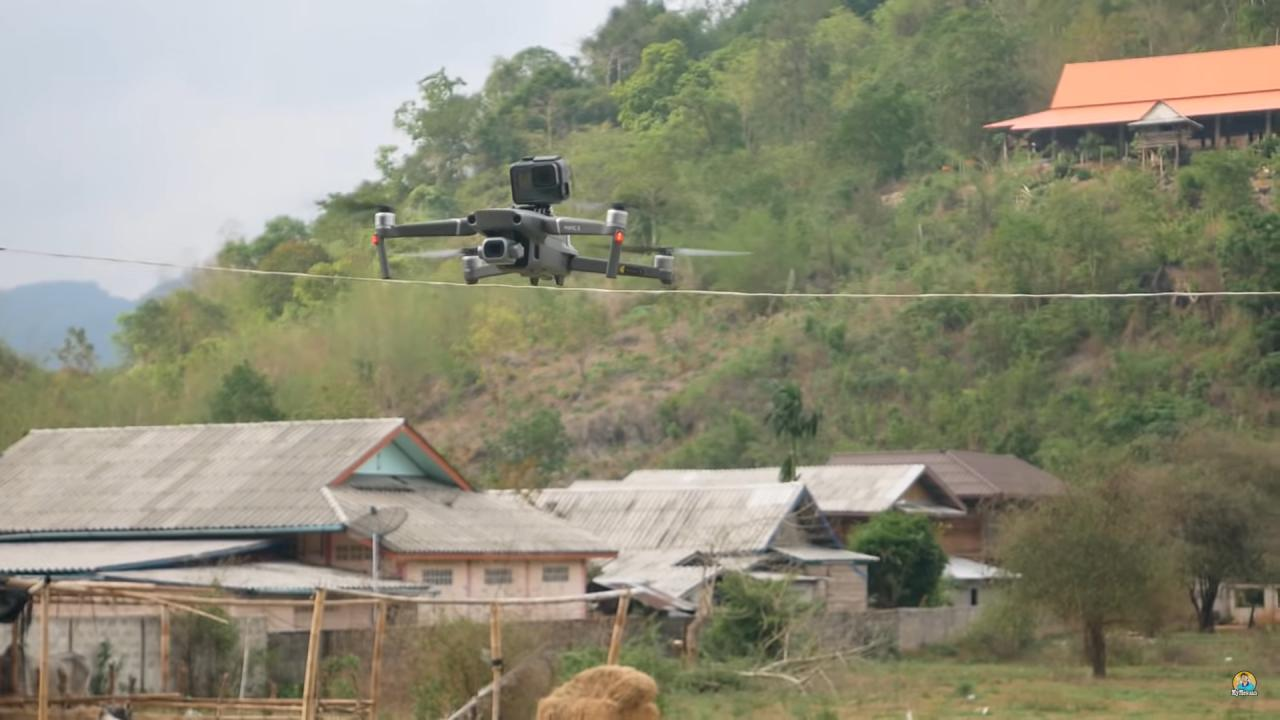Drone: (330, 148, 758, 302)
